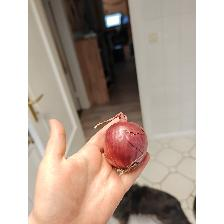Zwiebel: (92, 112, 148, 176)
